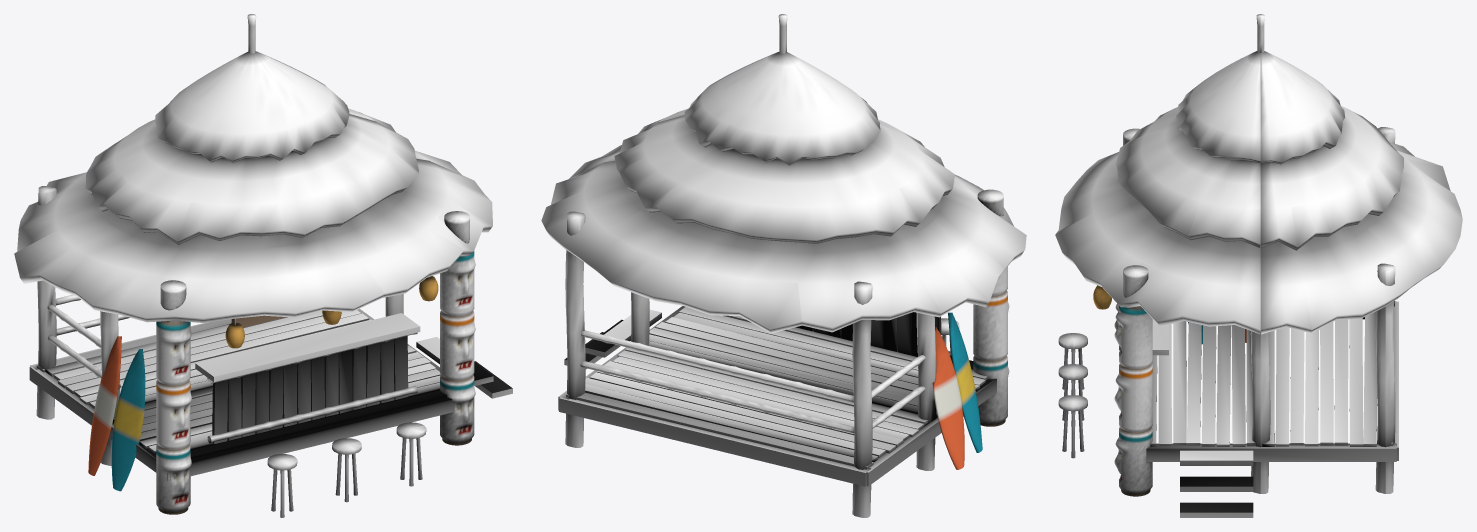
The model's file is HeroTikiClubhouse.fbx.
3 renders of one model, left to right at view 1: azimuth 30°, elevation 25°; view 2: azimuth 150°, elevation 25°; view 3: azimuth 270°, elevation 25°, orthographic. The views are drawn at different scales.
Visible parts, largest first — view 1: TikiClubhouse__Thatch, TikiClubhouse__Wood, TikiClubhouse__Totem, TikiClubhouse__Bamboo, TikiClubhouse__Paint, TikiClubhouse__Lantern; view 2: TikiClubhouse__Thatch, TikiClubhouse__Wood, TikiClubhouse__Bamboo, TikiClubhouse__Paint, TikiClubhouse__Totem; view 3: TikiClubhouse__Thatch, TikiClubhouse__Wood, TikiClubhouse__Totem, TikiClubhouse__Bamboo.
Part boxes in pixels (<box>): TikiClubhouse__Thatch: <box>14,51,492,322</box>; TikiClubhouse__Wood: <box>29,186,512,481</box>; TikiClubhouse__Totem: <box>156,211,475,514</box>; TikiClubhouse__Bamboo: <box>47,14,429,517</box>; TikiClubhouse__Paint: <box>88,336,145,491</box>; TikiClubhouse__Lantern: <box>225,276,438,348</box>; TikiClubhouse__Thatch: <box>541,52,1026,333</box>; TikiClubhouse__Wood: <box>558,211,996,517</box>; TikiClubhouse__Bamboo: <box>580,14,951,433</box>; TikiClubhouse__Paint: <box>932,312,982,469</box>; TikiClubhouse__Totem: <box>973,189,1009,426</box>; TikiClubhouse__Thatch: <box>1055,51,1462,334</box>; TikiClubhouse__Wood: <box>1058,127,1398,517</box>; TikiClubhouse__Totem: <box>1114,128,1152,496</box>; TikiClubhouse__Bamboo: <box>1062,14,1264,458</box>.
Bounding box in the file's own units: 6.79 × 6.11 × 5.55.
